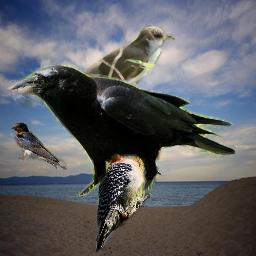Crow: (7, 65, 235, 197)
Cuckoo: (63, 25, 175, 93)
Swallow: (11, 122, 68, 171)
Woodpecker: (96, 144, 165, 252)
